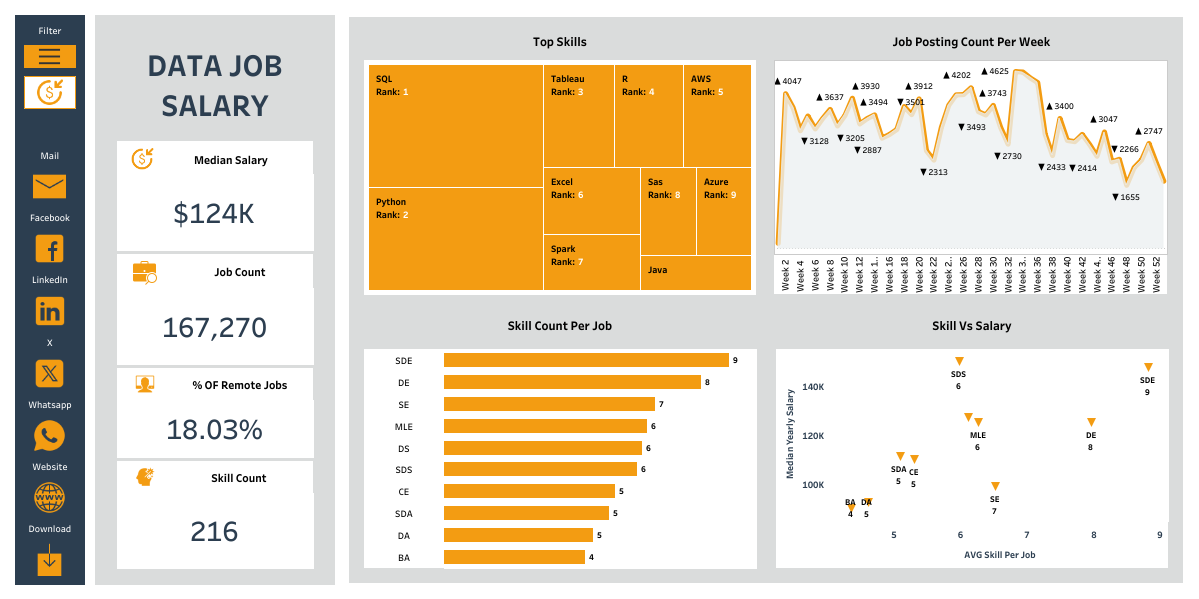

This screenshot's page, from the dashboard's own definition file:
{"tool":"tableau","page":{"name":"Skill Dashboard","canvas":[1200,600],"ordinal":1},"visuals":[{"type":"blank","box":[124,19.2,179,36]},{"type":"text","box":[20,20,60,21]},{"type":"text","box":[354,22,412,27]},{"type":"text","box":[766,22,412,27]},{"type":"text","box":[107,27,216,113.7]},{"type":"dashboard-object","box":[20,41,60,31.1]},{"type":"worksheet","title":"Top Skills","mark":"Square","box":[354,49,412,251]},{"type":"worksheet","title":"Job Trends Over Time","mark":"Line","rows":["job_title_short","job_title_short"],"cols":["job_posted_date"],"box":[766,49,412,251]},{"type":"text","box":[124,55.2,179,25.2]},{"type":"dashboard-object","box":[20,72.1,60,41.1]},{"type":"blank","box":[124,80.4,179,12]},{"type":"filter","title":"KPI % Of Remote Job","param":"[federated.1tlz0m01tmru0j10yg1da0a4o4ct].[none:job_country:nk]","box":[124,92.4,179,54]},{"type":"blank","box":[20,113.2,60,32]},{"type":"image","param":"Image/icons8-income-50.png","box":[117,143.7,50,30.7]},{"type":"text","box":[167,143.7,128,30.7]},{"type":"text","box":[20,145.2,60,21]},{"type":"blank","box":[124,146.4,179,12]},{"type":"filter","title":"KPI % Of Remote Job","param":"[federated.1tlz0m01tmru0j10yg1da0a4o4ct].[none:job_via:nk]","box":[124,158.4,179,54]},{"type":"image","param":"Image/icons8-mail-50.png","box":[20,166.2,60,41.1]},{"type":"worksheet","title":"KPI Median Salary","mark":"Automatic","box":[107,174.3,216,80]},{"type":"text","box":[20,207.3,60,21]},{"type":"blank","box":[124,212.4,179,12]},{"type":"filter","title":"Top Skills","param":"[federated.1tlz0m01tmru0j10yg1da0a4o4ct].[none:job_skills:nk]","box":[124,224.4,179,54]},{"type":"image","param":"Image/icons8-facebook-50.png","box":[20,228.3,60,41.1]},{"type":"image","param":"Image/icons8-job-seeker-50.png","box":[120,257.3,50,27.7]},{"type":"text","box":[170,257.3,140,27.7]},{"type":"text","box":[20,269.4,60,21]},{"type":"blank","box":[124,278.4,179,12]},{"type":"worksheet","title":"KPI Total Job","mark":"Automatic","box":[107,288,216,80]},{"type":"image","param":"Image/icons8-linkedin-50.png","box":[20,290.4,60,41.1]},{"type":"filter","title":"Skill Count Per Job","param":"[federated.1tlz0m01tmru0j10yg1da0a4o4ct].[none:job_title_short:nk]","box":[124,290.4,179,265.2]},{"type":"text","box":[354,300,411.6,38.7]},{"type":"text","box":[765.6,300,412.4,38.7]},{"type":"text","box":[20,331.5,60,21]},{"type":"worksheet","title":"Skill Count Per Job","mark":"Automatic","rows":["job_title_short"],"cols":["Calculation_124693480334626819"],"box":[354,338.7,411.6,239.3]},{"type":"worksheet","title":"Skill vs Salary","mark":"Shape","rows":["salary_year_avg"],"cols":["Calculation_124693480334626819"],"box":[765.6,338.7,412.4,239.3]},{"type":"image","param":"Image/icons8-x-50.png","box":[20,352.5,60,41.1]},{"type":"image","param":"Image/icons8-workspace-50.png","box":[120,371,50,26]},{"type":"text","box":[170,371,140,26]},{"type":"text","box":[20,393.7,60,21]},{"type":"worksheet","title":"KPI % Of Remote Job","mark":"Automatic","box":[107,400,216,61]},{"type":"image","param":"Image/icons8-whatsapp-50.png","box":[20,414.7,60,41.1]},{"type":"text","box":[20,455.8,60,21]},{"type":"image","param":"Image/icons8-skill-50.png","box":[120,464,50,26]},{"type":"text","box":[170,464,138,26]},{"type":"image","param":"Image/icons8-website-50.png","box":[20,476.8,60,41.1]},{"type":"worksheet","title":"Skill Count","mark":"Automatic","box":[107,493,216,80]},{"type":"text","box":[20,517.9,60,21]},{"type":"dashboard-object","box":[20,538.9,60,41.1]}]}

Visuals, with their boxes on the page's 1200x600 design canvas (x1, y1, x2, y2). These are canvas units, not pixel positions in the 1199x599 screenshot, which may show the page scaled, cropped or inside an application window:
blank: (x1=124, y1=19, x2=303, y2=55)
text: (x1=20, y1=20, x2=80, y2=41)
text: (x1=354, y1=22, x2=766, y2=49)
text: (x1=766, y1=22, x2=1178, y2=49)
text: (x1=107, y1=27, x2=323, y2=141)
dashboard-object: (x1=20, y1=41, x2=80, y2=72)
"Top Skills" worksheet (Square marks): (x1=354, y1=49, x2=766, y2=300)
"Job Trends Over Time" worksheet (Line marks): (x1=766, y1=49, x2=1178, y2=300)
text: (x1=124, y1=55, x2=303, y2=80)
dashboard-object: (x1=20, y1=72, x2=80, y2=113)
blank: (x1=124, y1=80, x2=303, y2=92)
"KPI % Of Remote Job" filter: (x1=124, y1=92, x2=303, y2=146)
blank: (x1=20, y1=113, x2=80, y2=145)
image: (x1=117, y1=144, x2=167, y2=174)
text: (x1=167, y1=144, x2=295, y2=174)
text: (x1=20, y1=145, x2=80, y2=166)
blank: (x1=124, y1=146, x2=303, y2=158)
"KPI % Of Remote Job" filter: (x1=124, y1=158, x2=303, y2=212)
image: (x1=20, y1=166, x2=80, y2=207)
"KPI Median Salary" worksheet: (x1=107, y1=174, x2=323, y2=254)
text: (x1=20, y1=207, x2=80, y2=228)
blank: (x1=124, y1=212, x2=303, y2=224)
"Top Skills" filter: (x1=124, y1=224, x2=303, y2=278)
image: (x1=20, y1=228, x2=80, y2=269)
image: (x1=120, y1=257, x2=170, y2=285)
text: (x1=170, y1=257, x2=310, y2=285)
text: (x1=20, y1=269, x2=80, y2=290)
blank: (x1=124, y1=278, x2=303, y2=290)
"KPI Total Job" worksheet: (x1=107, y1=288, x2=323, y2=368)
image: (x1=20, y1=290, x2=80, y2=332)
"Skill Count Per Job" filter: (x1=124, y1=290, x2=303, y2=556)
text: (x1=354, y1=300, x2=766, y2=339)
text: (x1=766, y1=300, x2=1178, y2=339)
text: (x1=20, y1=332, x2=80, y2=352)
"Skill Count Per Job" worksheet: (x1=354, y1=339, x2=766, y2=578)
"Skill vs Salary" worksheet (Shape marks): (x1=766, y1=339, x2=1178, y2=578)
image: (x1=20, y1=352, x2=80, y2=394)
image: (x1=120, y1=371, x2=170, y2=397)
text: (x1=170, y1=371, x2=310, y2=397)
text: (x1=20, y1=394, x2=80, y2=415)
"KPI % Of Remote Job" worksheet: (x1=107, y1=400, x2=323, y2=461)
image: (x1=20, y1=415, x2=80, y2=456)
text: (x1=20, y1=456, x2=80, y2=477)
image: (x1=120, y1=464, x2=170, y2=490)
text: (x1=170, y1=464, x2=308, y2=490)
image: (x1=20, y1=477, x2=80, y2=518)
"Skill Count" worksheet: (x1=107, y1=493, x2=323, y2=573)
text: (x1=20, y1=518, x2=80, y2=539)
dashboard-object: (x1=20, y1=539, x2=80, y2=580)
